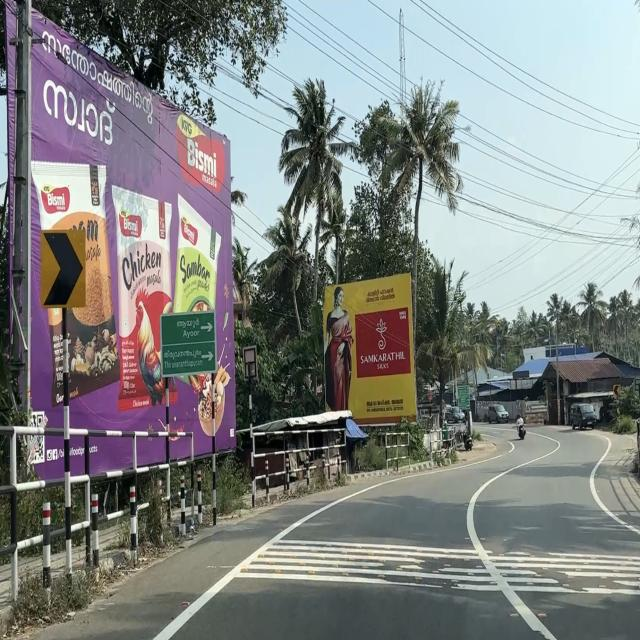GENERAL: (159, 308, 218, 379), (457, 385, 471, 411)
TURN_LEFT: (613, 385, 620, 397)
